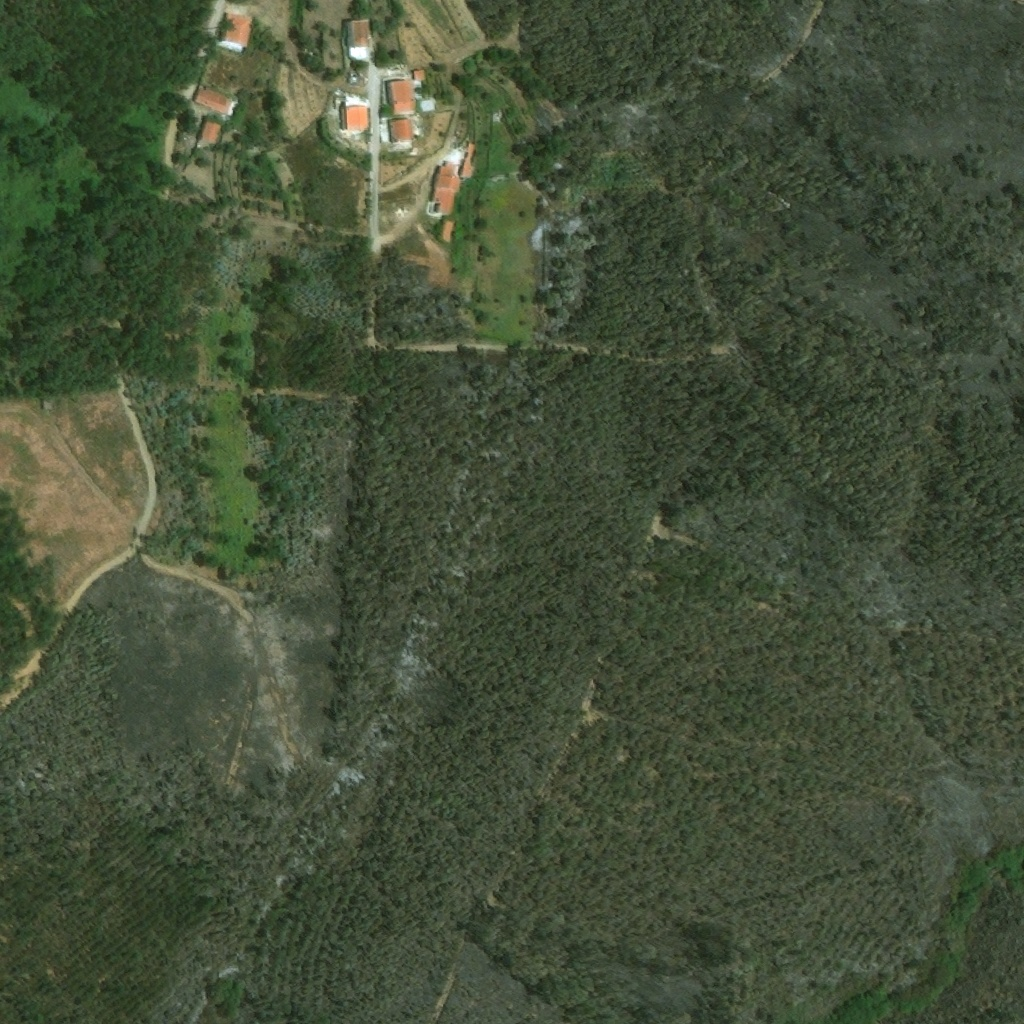0 no-damage: (385, 68, 436, 117), (429, 159, 458, 215), (216, 12, 255, 53), (194, 84, 235, 115), (345, 16, 372, 62), (341, 97, 370, 131), (197, 117, 222, 147), (460, 143, 480, 178), (388, 118, 414, 144), (442, 221, 453, 243)
